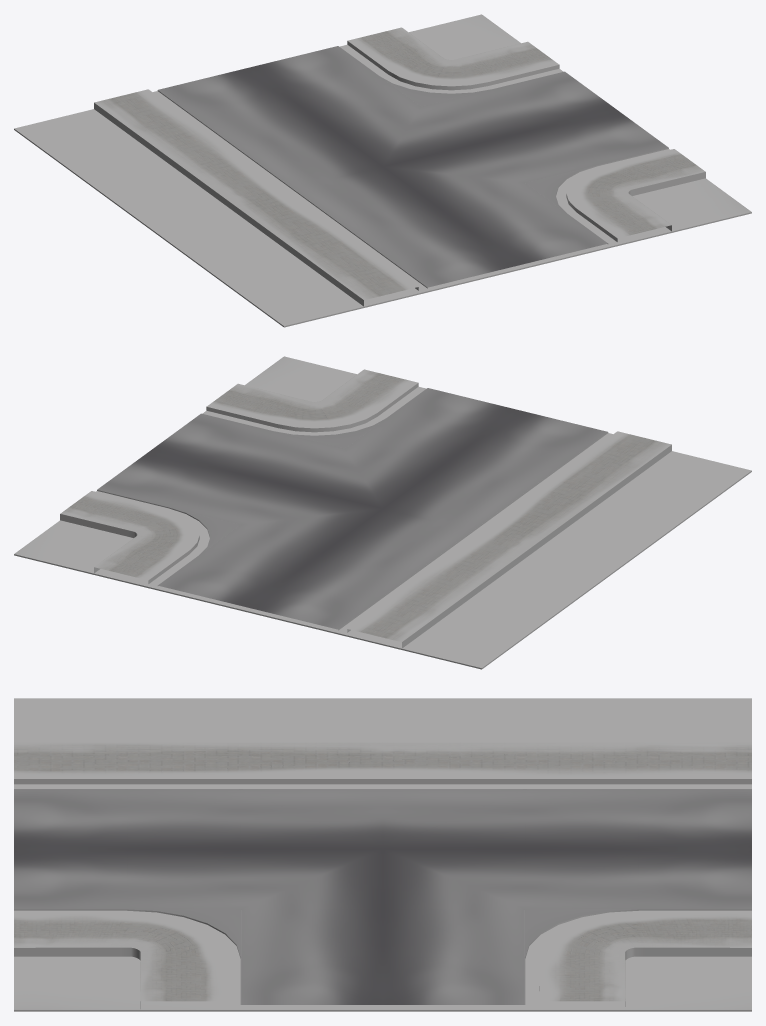
The model's file is Half_Intersecton_Curved.fbx.
The picture shows the model from 3 angles, top to bottom: view 1: azimuth 30°, elevation 25°; view 2: azimuth 150°, elevation 25°; view 3: azimuth 270°, elevation 25°; orthographic projection. The views are drawn at different scales.
Parts seen in each view (by area): view 1: Road_10X34, Road_10X62; view 2: Road_10X34, Road_10X62; view 3: Road_10X34, Road_10X62.
Boxes of the visible parts, left/top/right/bottom form: Road_10X34: left=94, top=27, right=705, bottom=306; Road_10X62: left=14, top=14, right=751, bottom=327; Road_10X34: left=60, top=369, right=671, bottom=648; Road_10X62: left=14, top=356, right=751, bottom=669; Road_10X34: left=14, top=742, right=751, bottom=1008; Road_10X62: left=14, top=698, right=751, bottom=1011.
Bounding box in the file's own units: 1000 × 15.95 × 1000.
